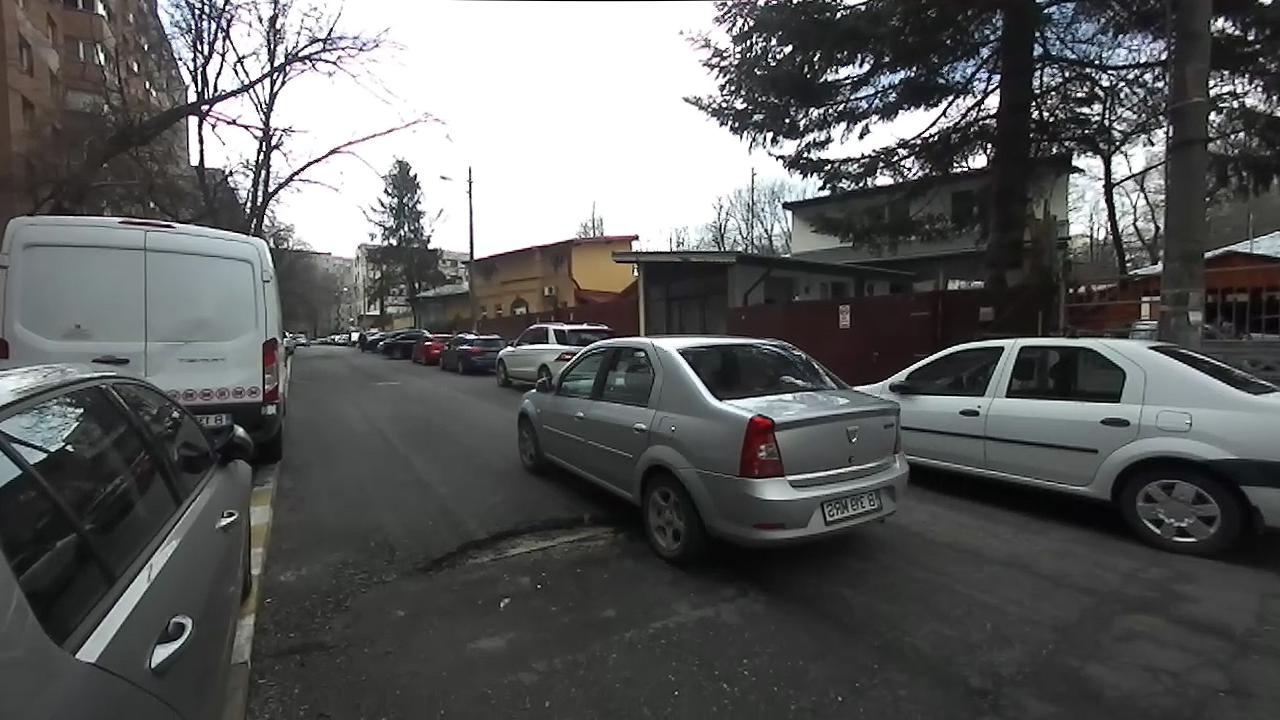pothole: (411, 514, 631, 584)
